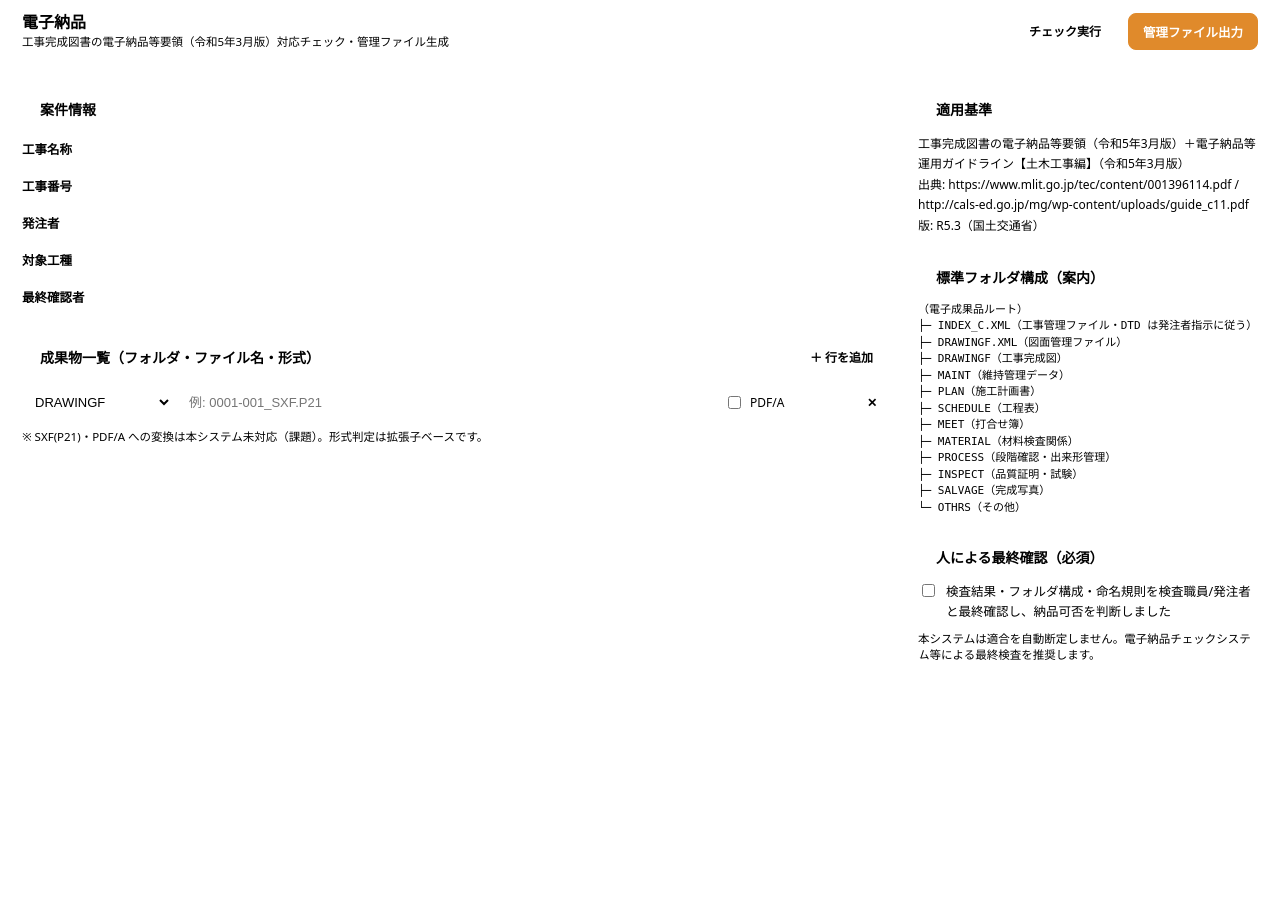
Test: EdeliveryPage › 基準情報・標準フォルダ案内を表示し、チェック実行で検査結果を表示する
Expected: the text "電子納品" is shown, [22,11,86,33]
Expected: the text "工事完成図書の電子納品等要領（令和5年3月版）対応チェック・管理ファイル生成" is shown, [22,33,449,49]
Type "施工図.dxf" into the field named "ファイル名".
click(448, 402); type("施工図.dxf")  # box [180,387,716,418]
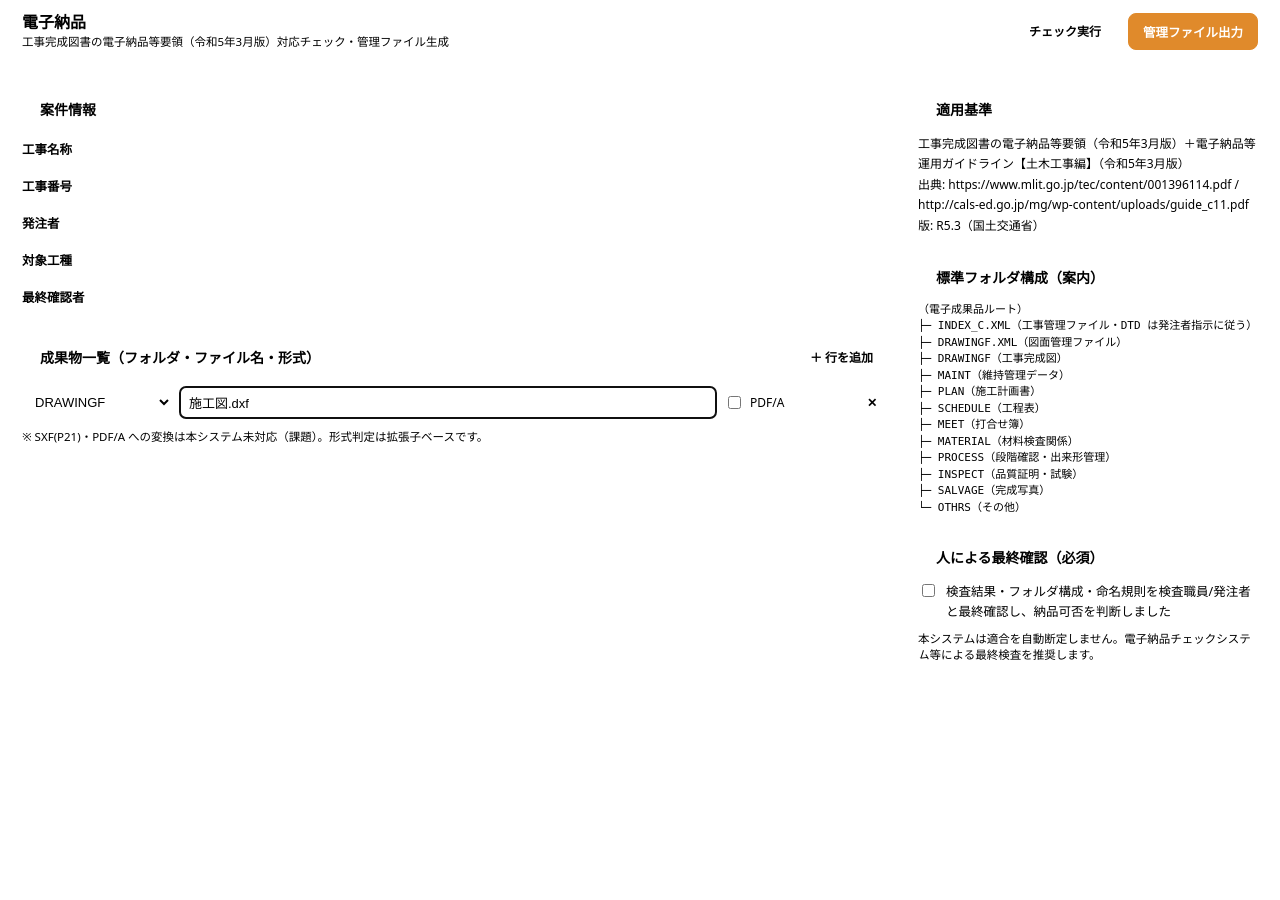
Click the button "チェック実行".
click(1065, 31)  # box [1018,16,1112,46]
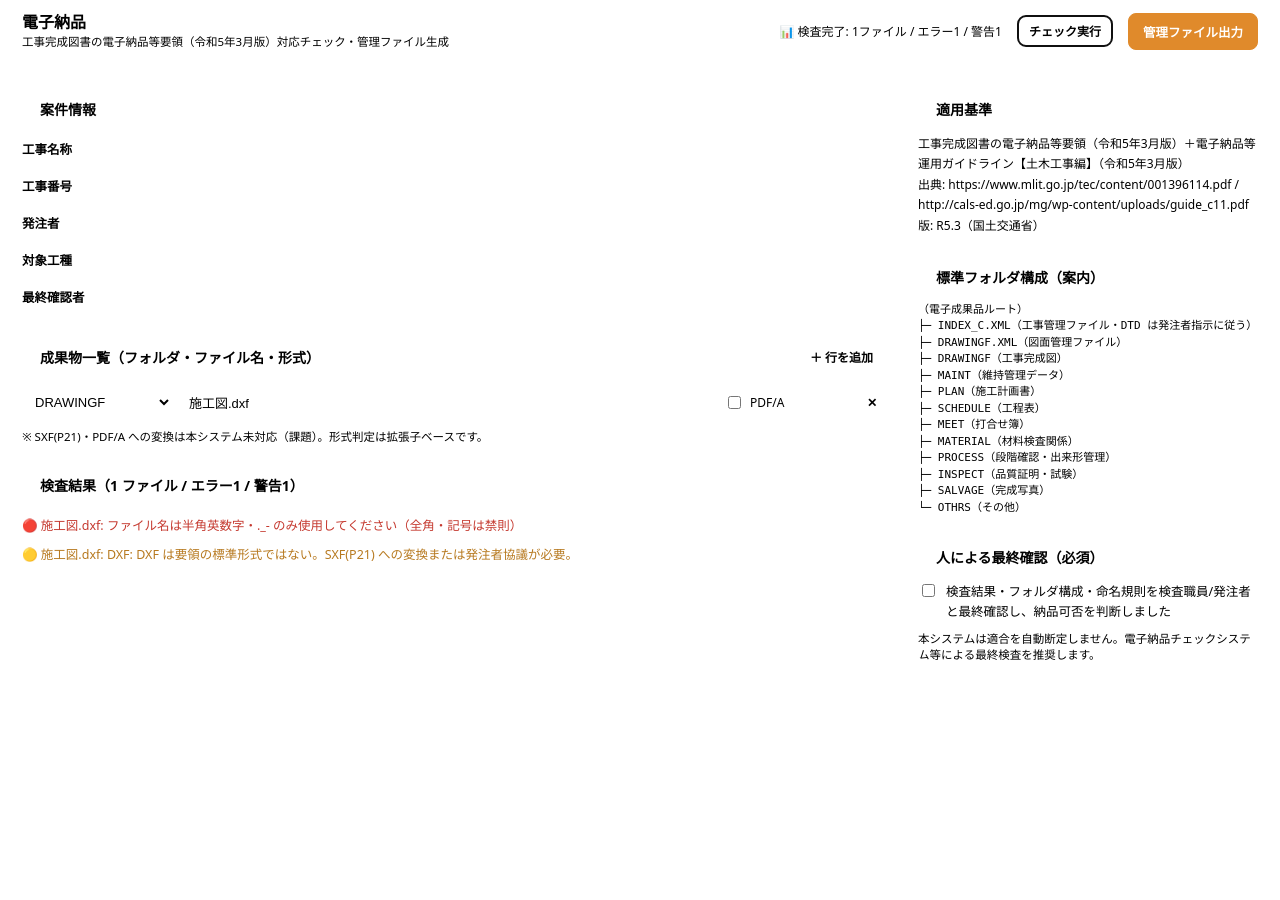
Expected: the text "📊 検査完了: 1ファイル / エラー1 / 警告1" is shown, [780,22,1002,40]
Expected: the text "🔴 施工図.dxf: ファイル名は半角英数字・._- のみ使用してください（全角・記号は禁則）" is shown, [22,517,522,534]
Expected: the text "🟡 施工図.dxf: DXF: DXF は要領の標準形式ではない。SXF(P21) への変換または発注者協議が必要。" is shown, [22,546,578,563]
